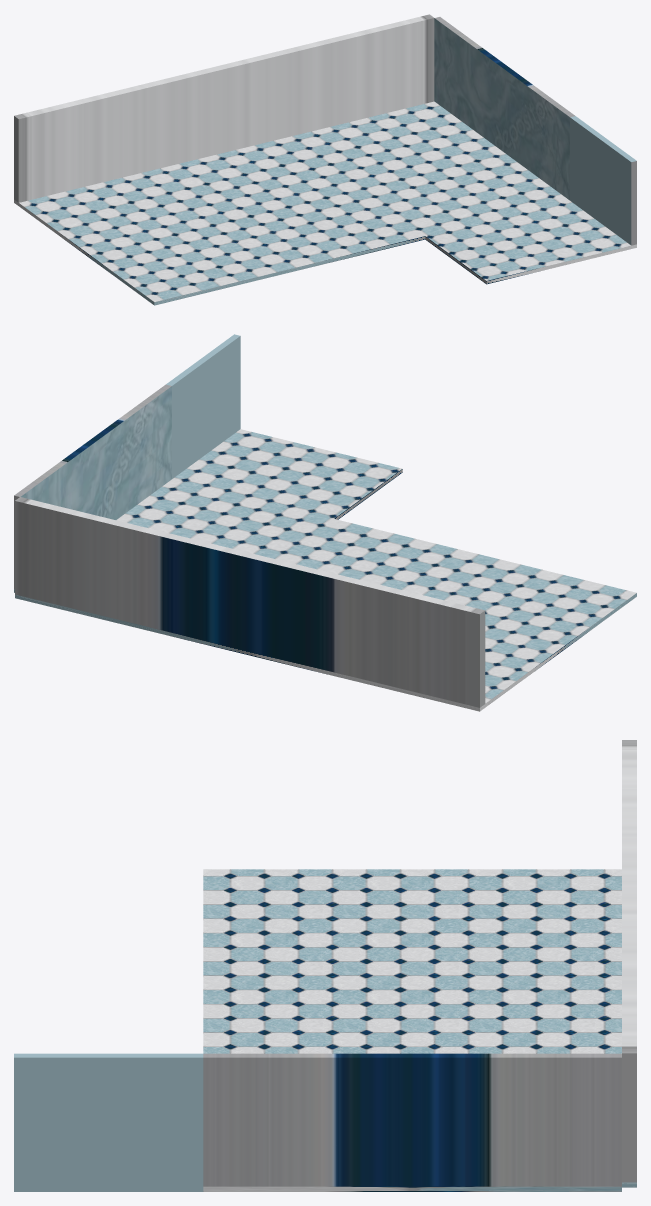
The model's file is cucinadefinitive.obj.
3 renders of one model, top to bottom at view 1: azimuth 30°, elevation 25°; view 2: azimuth 150°, elevation 25°; view 3: azimuth 270°, elevation 25°, orthographic. The views are drawn at different scales.
Visible parts, largest first — view 1: Cube; view 2: Cube; view 3: Cube.
Part boxes in pixels (box(x1,y1,x2,y2)): Cube: box(14, 14, 636, 305); Cube: box(14, 334, 636, 711); Cube: box(14, 740, 636, 1191).
Bounding box in the file's own units: 16.63 × 3.28 × 13.79.
